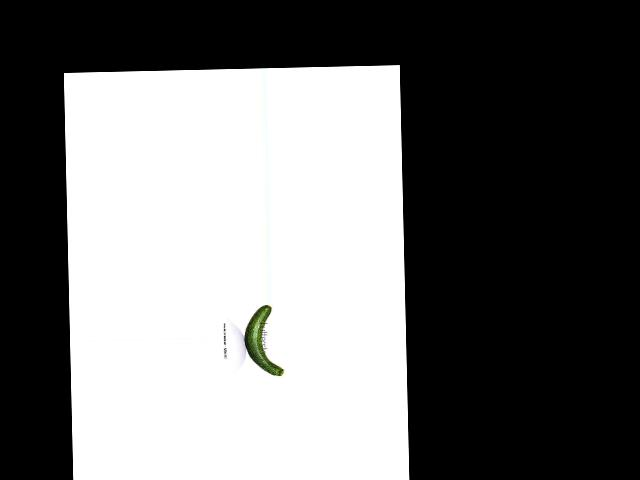cucumber: (243, 305, 284, 376)
